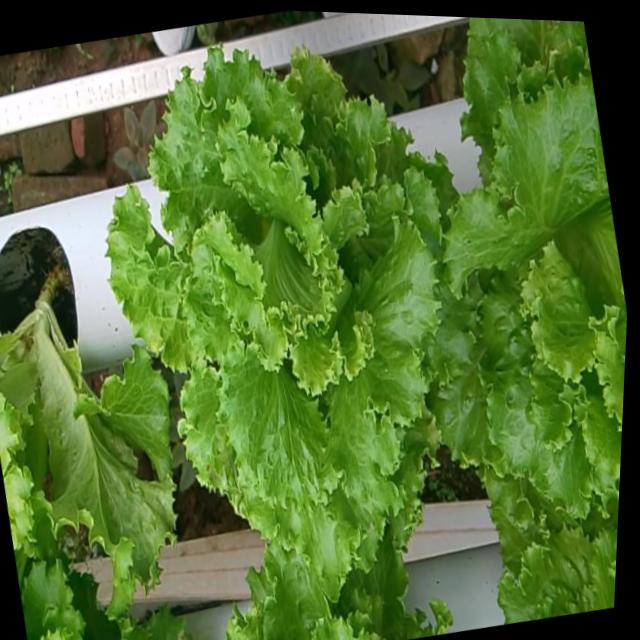Mature: (112, 42, 444, 570), (433, 62, 627, 510)
